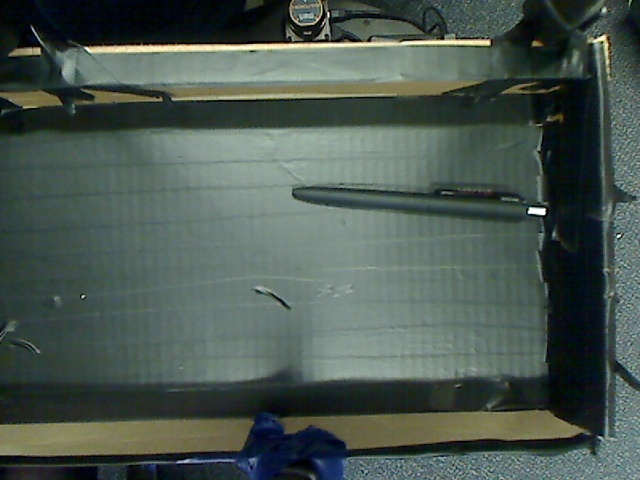pen: (279, 162, 569, 238)
